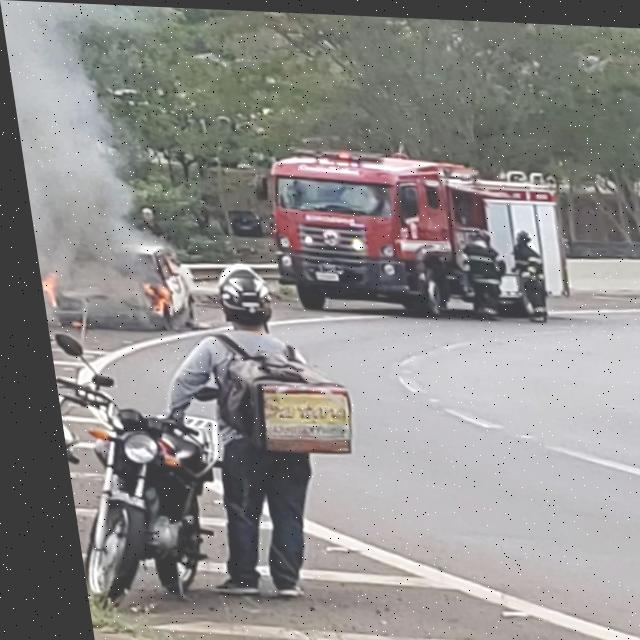Fire: (130, 282, 167, 312), (34, 274, 56, 308)
